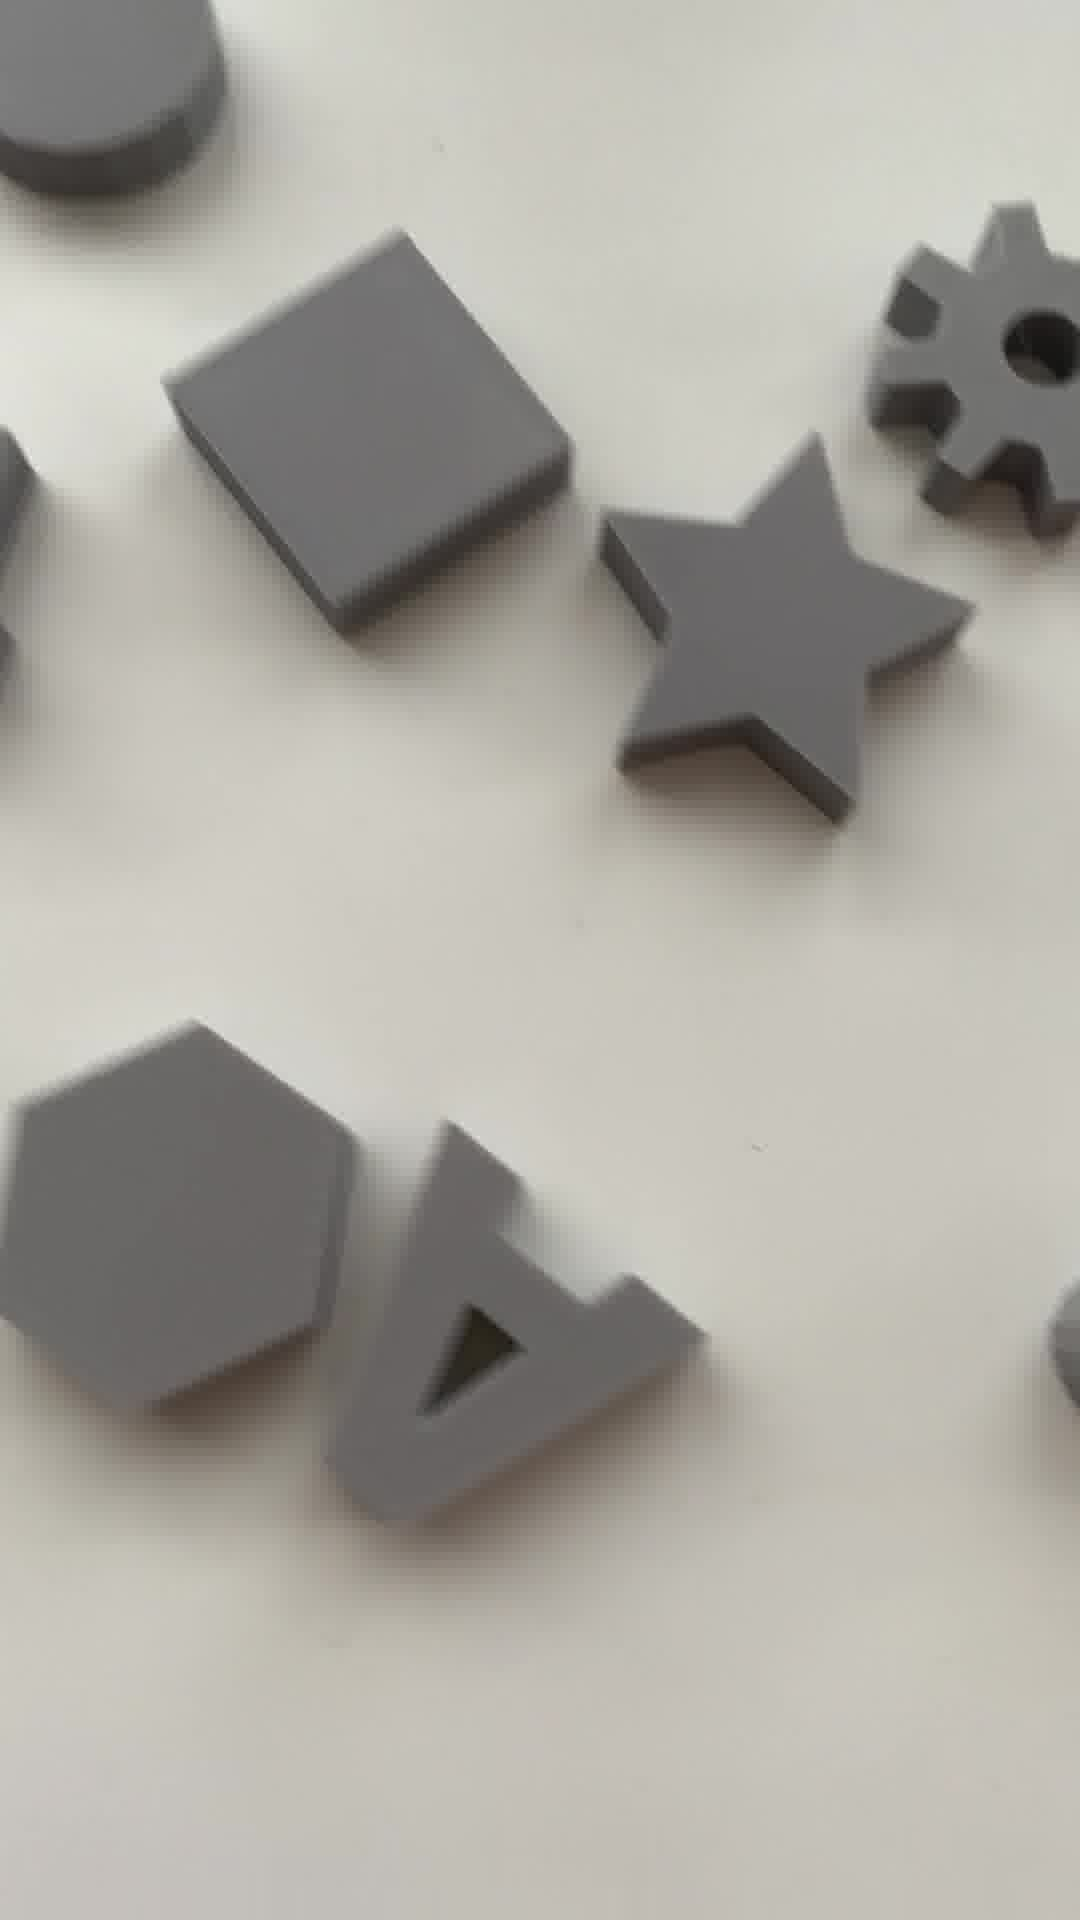Gray A-letter: (319, 1127, 698, 1532)
Gray gear: (827, 191, 1080, 549)
Gray hexagon: (1, 1014, 353, 1428)
Gray square: (174, 232, 560, 646)
Gray star: (576, 430, 975, 837)
